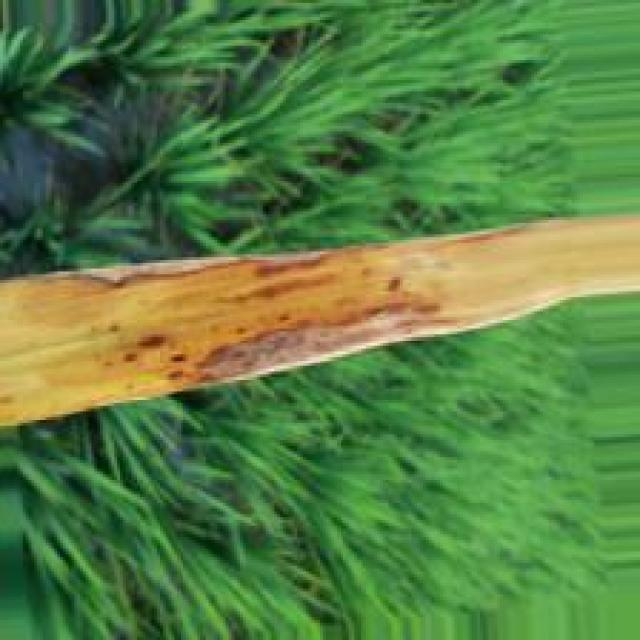Leaf_Scald: (175, 282, 472, 392), (32, 239, 412, 295), (130, 331, 168, 352)
